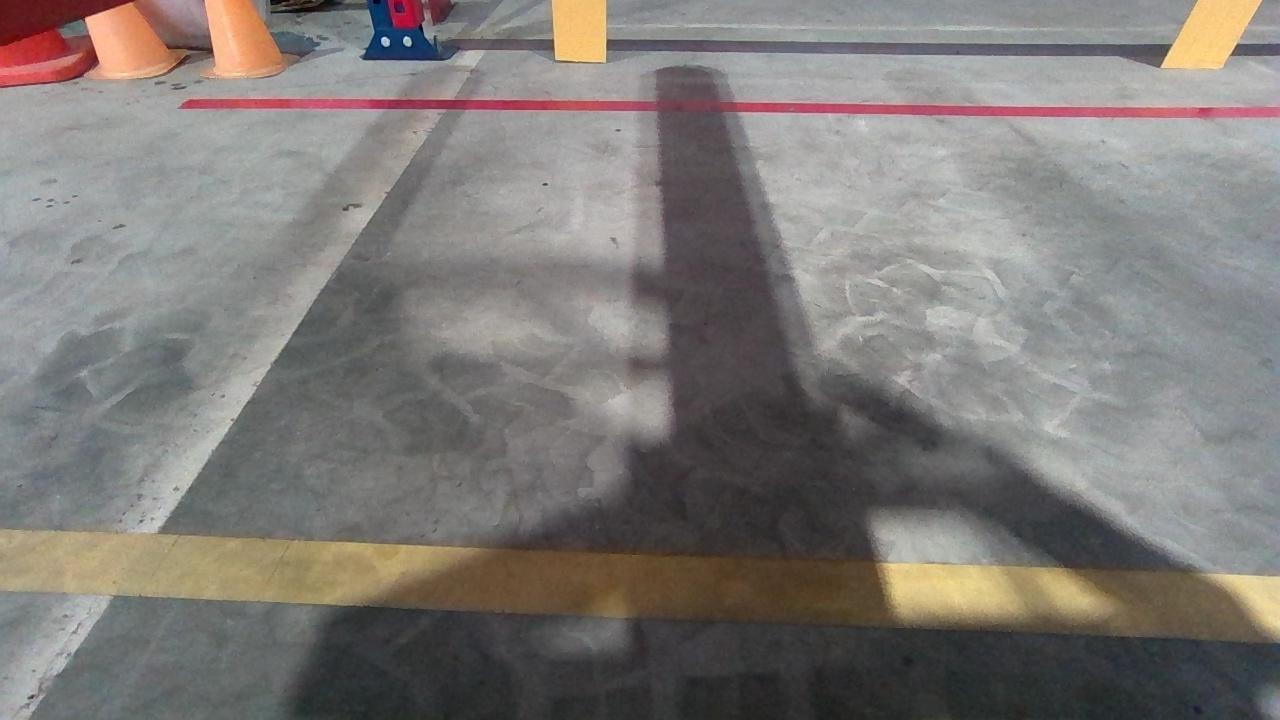orange_strip: (1158, 1, 1267, 68), (550, 1, 607, 61)
red_line: (168, 94, 1276, 119)
yellow_line: (0, 534, 1280, 647)
